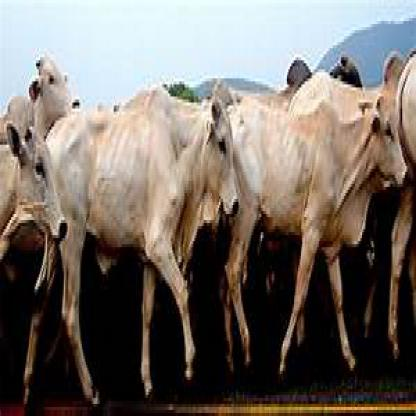cow: (54, 99, 240, 407), (234, 90, 410, 377), (0, 120, 70, 272), (10, 48, 80, 127)
